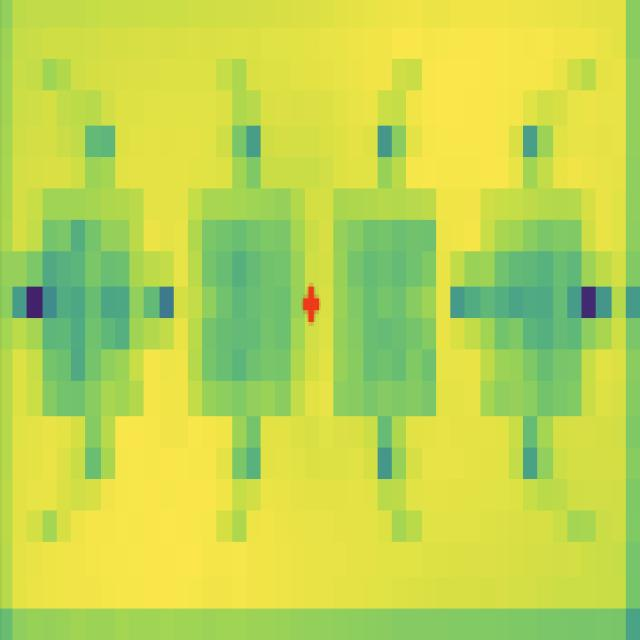Concrete: (182, 160, 302, 450)
Glass: (34, 157, 149, 447)
Metal: (328, 158, 445, 416)
Wood: (474, 161, 590, 436)
